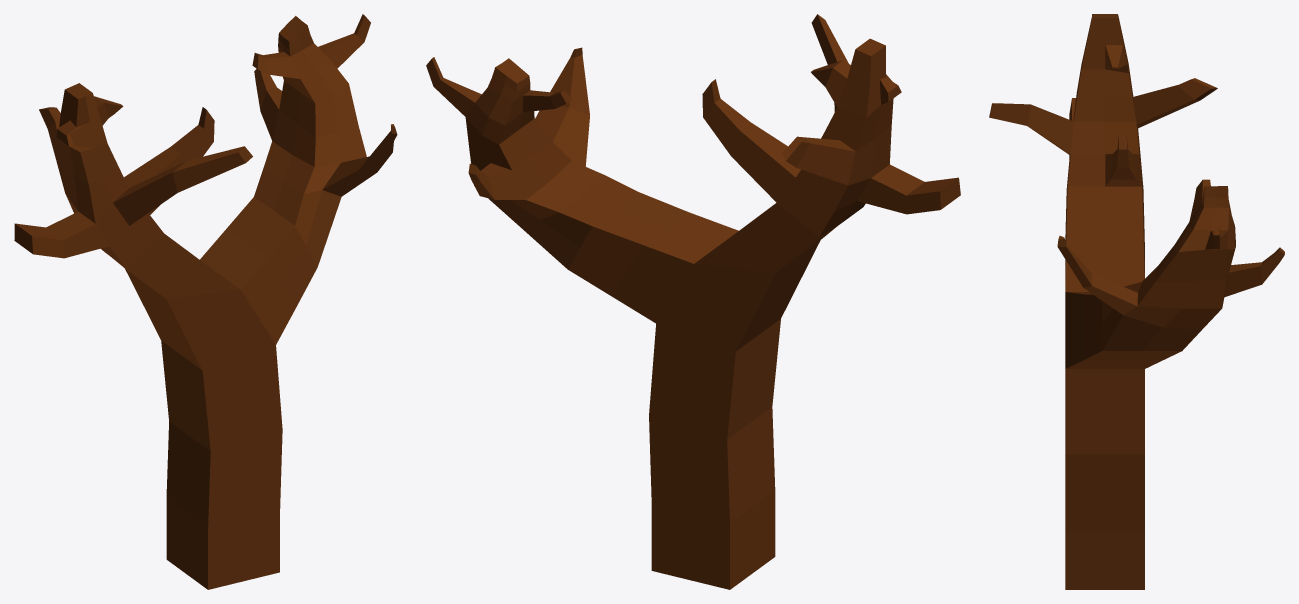
Rendered from HorribleTreeN.fbx.
The picture shows the model from 3 angles, left to right: view 1: azimuth 30°, elevation 25°; view 2: azimuth 150°, elevation 25°; view 3: azimuth 270°, elevation 25°; orthographic projection. The views are drawn at different scales.
Parts seen in each view (by area): view 1: DeadTree; view 2: DeadTree; view 3: DeadTree.
Part boxes in pixels (x1,y1,x2,y2): DeadTree: (14, 14, 397, 589); DeadTree: (426, 14, 960, 589); DeadTree: (989, 14, 1284, 589).
Size of the model in its own units: 1148 by 1358 by 741.
